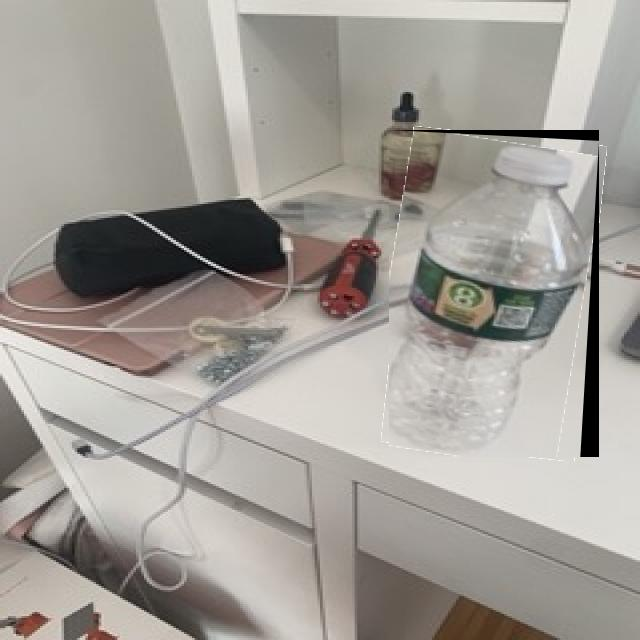water_bottle: (389, 130, 599, 457)
